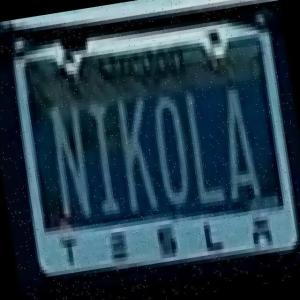Plate: (4, 12, 300, 291)
